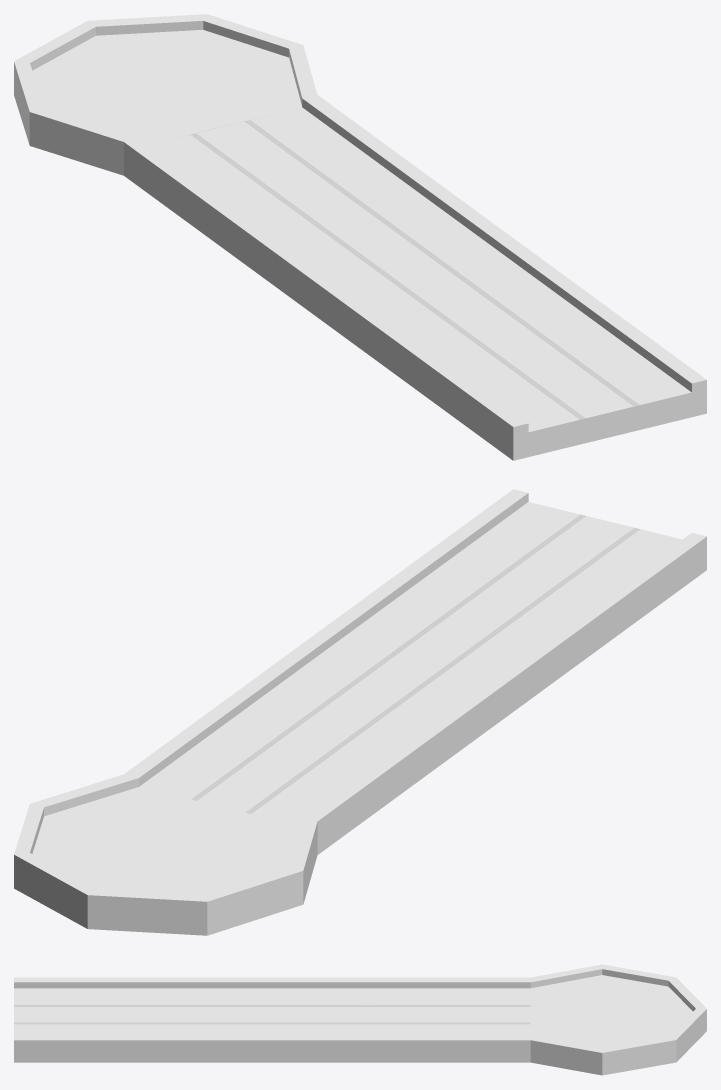
Rendered from EndPoint.fbx.
3 views of the same model, one above another, from view 1: azimuth 30°, elevation 25°; view 2: azimuth 150°, elevation 25°; view 3: azimuth 270°, elevation 25° (orthographic). The views are drawn at different scales.
Visible parts, largest first — view 1: EndPoint; view 2: EndPoint; view 3: EndPoint.
Boxes of the visible parts, left/top/right/bottom form: EndPoint: left=14, top=14, right=706, bottom=460; EndPoint: left=14, top=489, right=706, bottom=935; EndPoint: left=14, top=964, right=706, bottom=1075.
Bounding box in the file's own units: 1382 × 164 × 4570.
